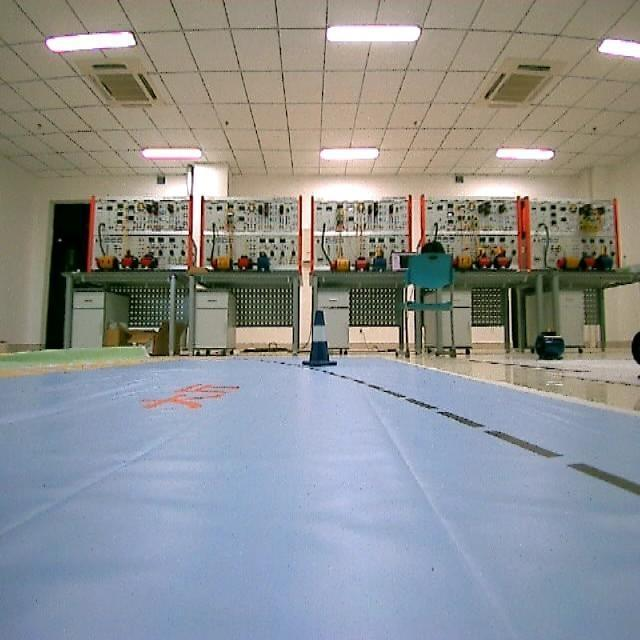obstacle: (296, 303, 344, 368)
